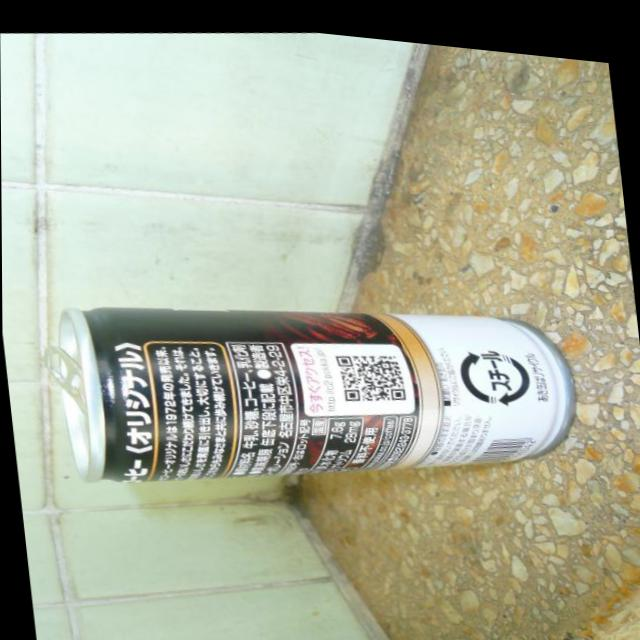qrcode: (335, 342, 406, 398)
